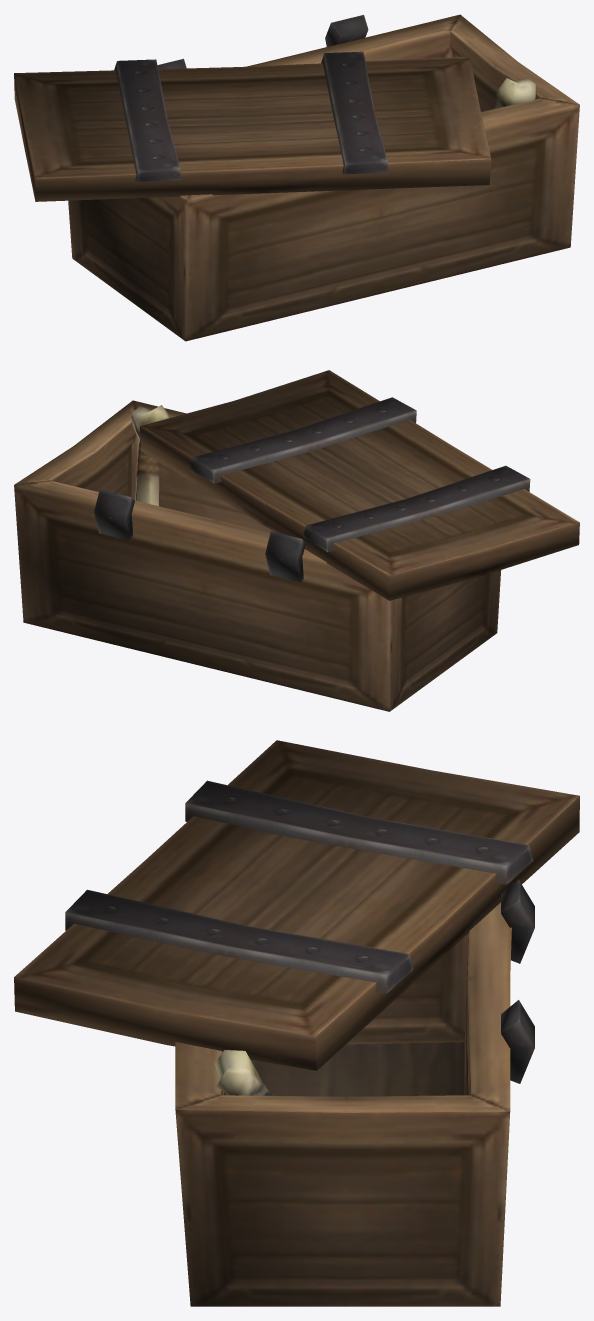
The model's file is FB5_jiumuxiang_2.FBX.
3 views of the same model, one above another, from view 1: azimuth 30°, elevation 25°; view 2: azimuth 150°, elevation 25°; view 3: azimuth 270°, elevation 25° (orthographic). The views are drawn at different scales.
Parts seen in each view (by area): view 1: FB5_jiumuxiang_2; view 2: FB5_jiumuxiang_2; view 3: FB5_jiumuxiang_2.
Boxes of the visible parts, box(x1,y1,x2,y2) form: FB5_jiumuxiang_2: box(14, 14, 579, 341); FB5_jiumuxiang_2: box(14, 370, 579, 711); FB5_jiumuxiang_2: box(14, 740, 579, 1306).
Bounding box in the file's own units: 23328 × 7719 × 16384.
1 material, 1 textured.
